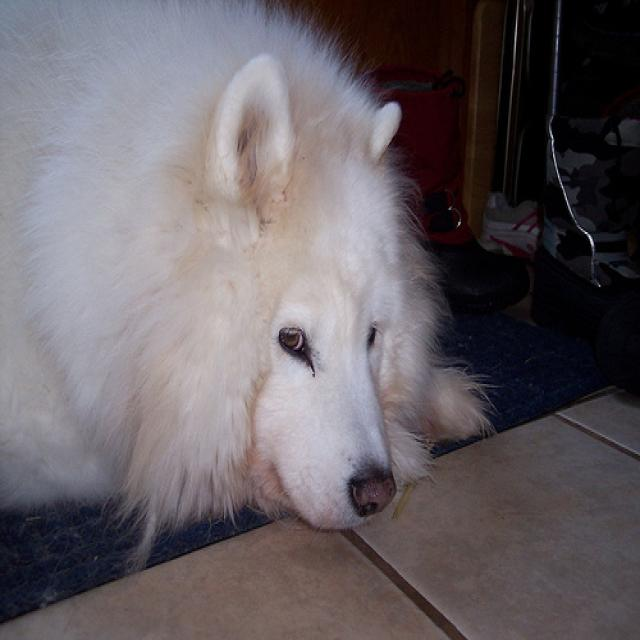dog: (196, 53, 404, 526)
